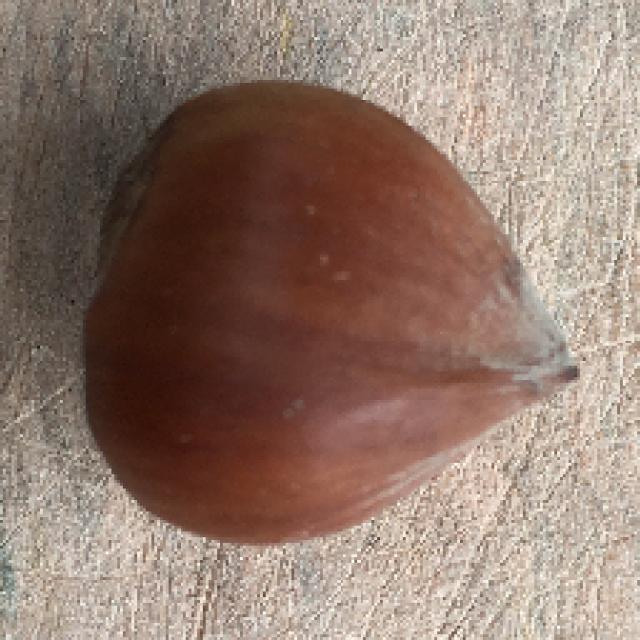DamagedHazelnut: (82, 80, 580, 546)
